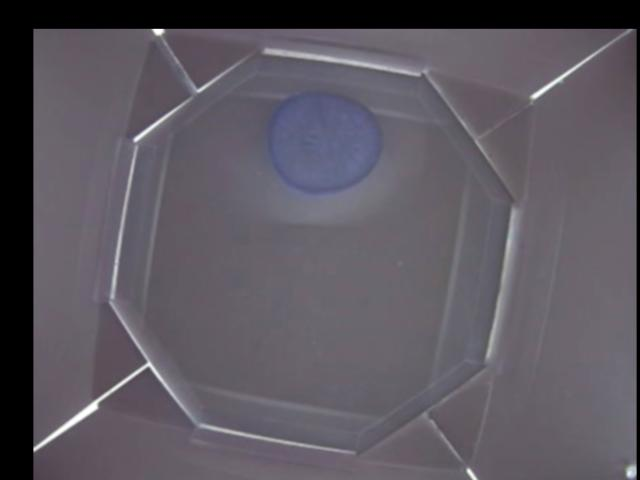Mooli: (269, 92, 382, 194)
